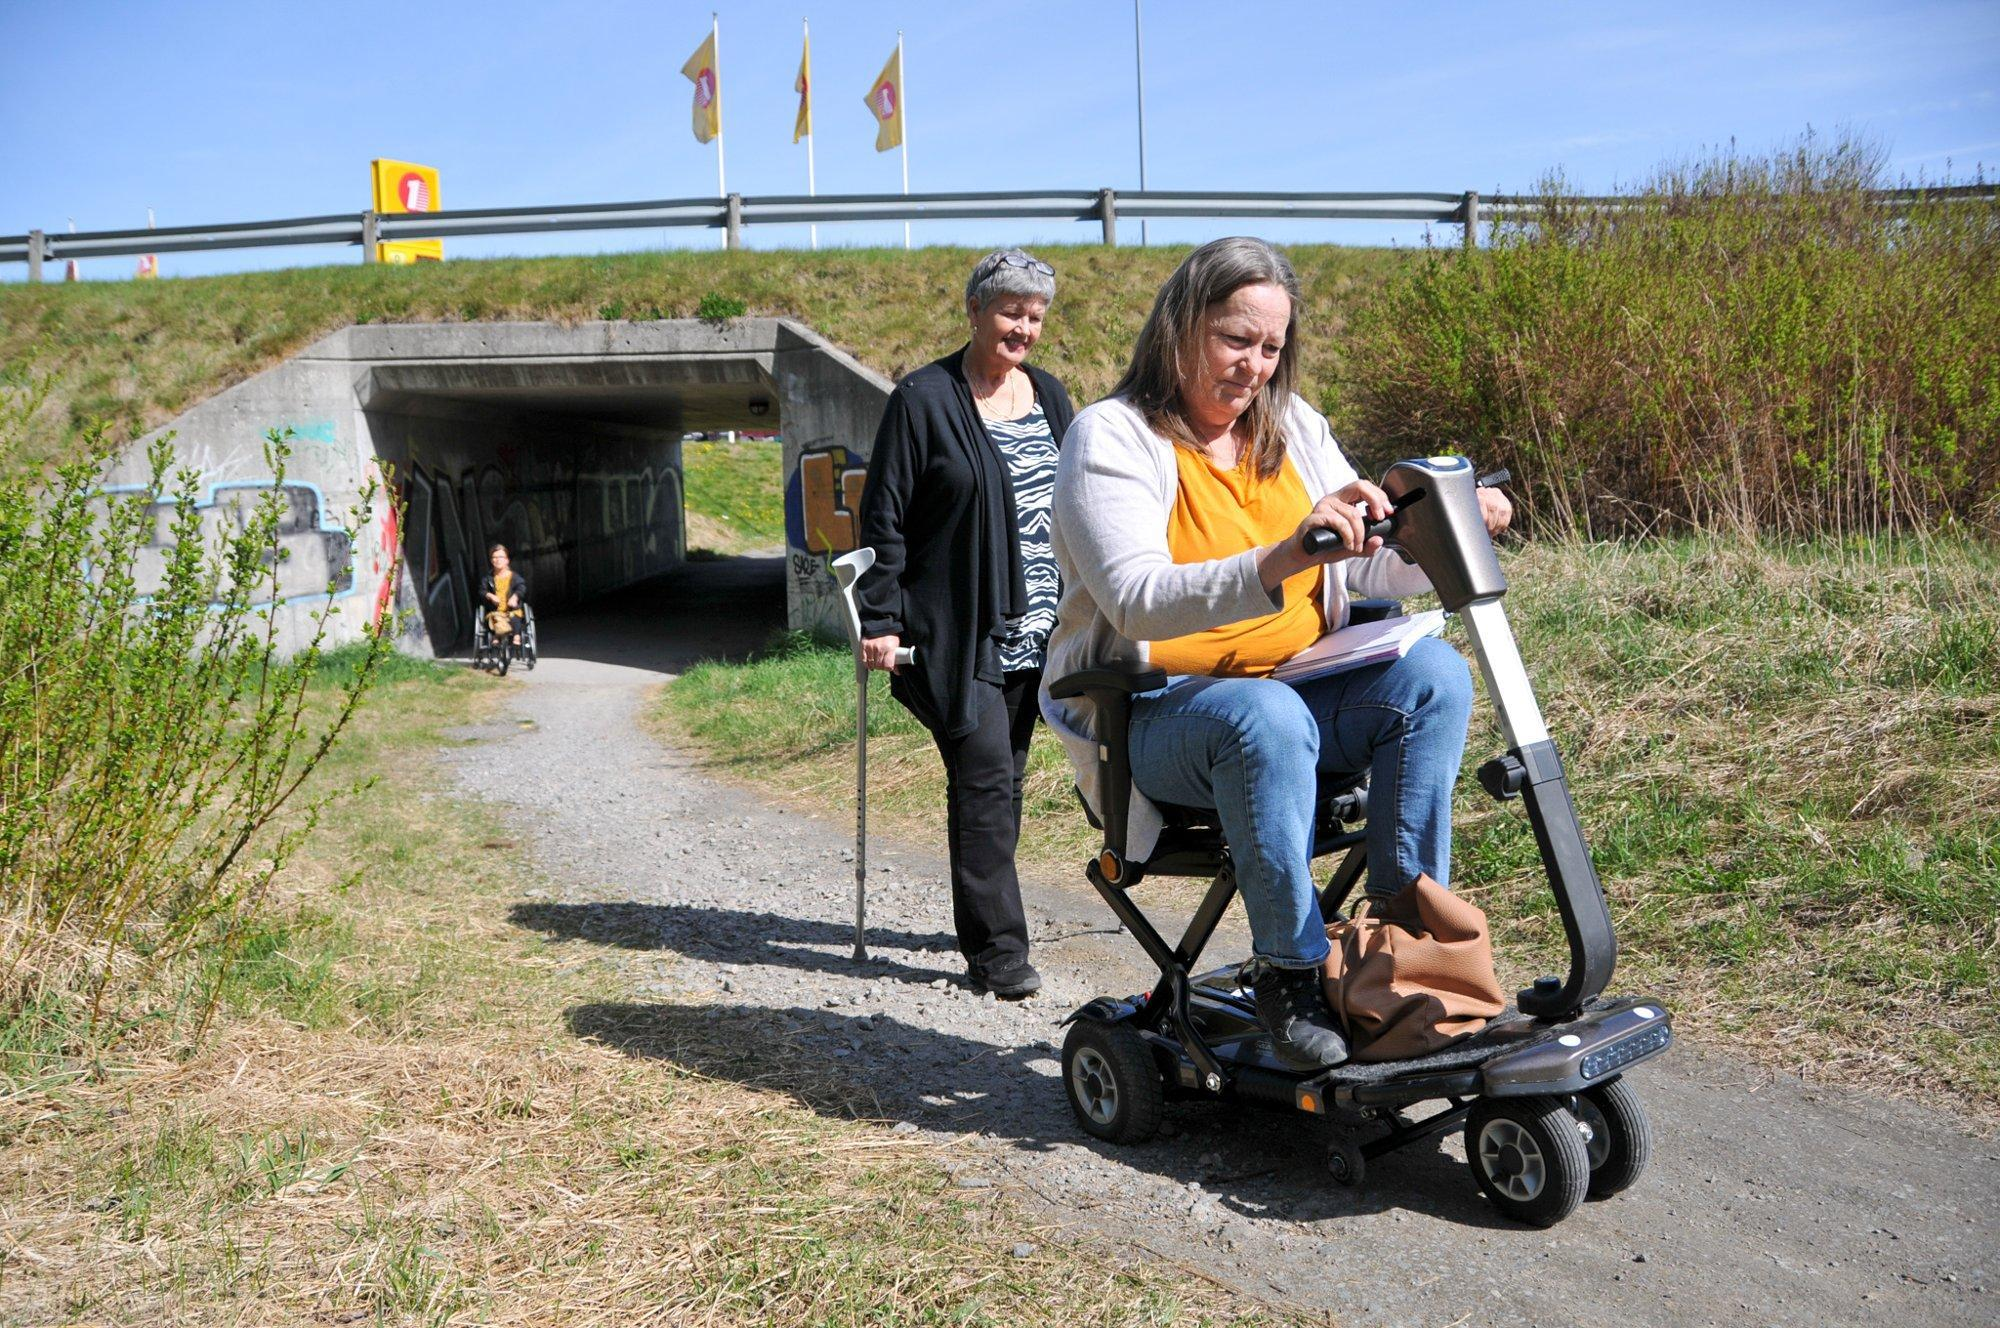crutches: (830, 248, 1073, 996)
wheelchair: (474, 544, 538, 676)
